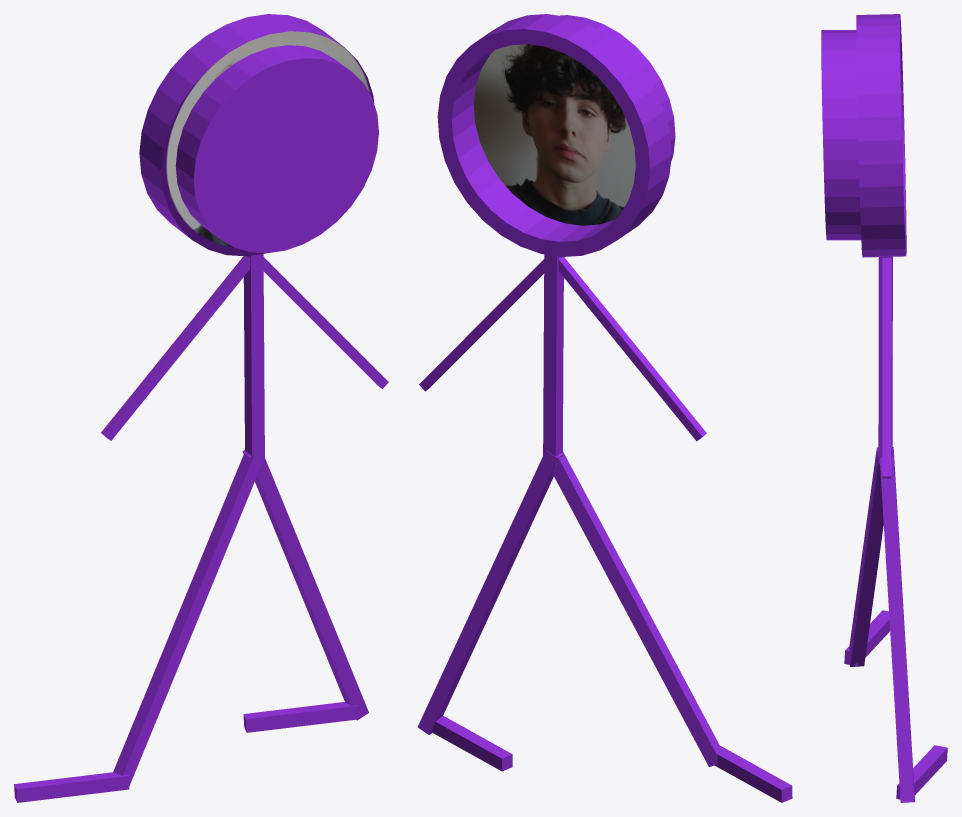
The model's file is Tiago.glb.
3 views of the same model, side by side, from view 1: azimuth 30°, elevation 25°; view 2: azimuth 150°, elevation 25°; view 3: azimuth 270°, elevation 25° (orthographic).
Parts seen in each view (by area): view 1: Cylinder; view 2: Cylinder; view 3: Cylinder.
Boxes of the visible parts, left/top/right/bottom form: Cylinder: left=14, top=14, right=388, bottom=802; Cylinder: left=417, top=14, right=792, bottom=802; Cylinder: left=821, top=14, right=947, bottom=802.
Size of the model in its own units: 5.37 by 10.11 by 1.6.
2 materials, 1 textured.
